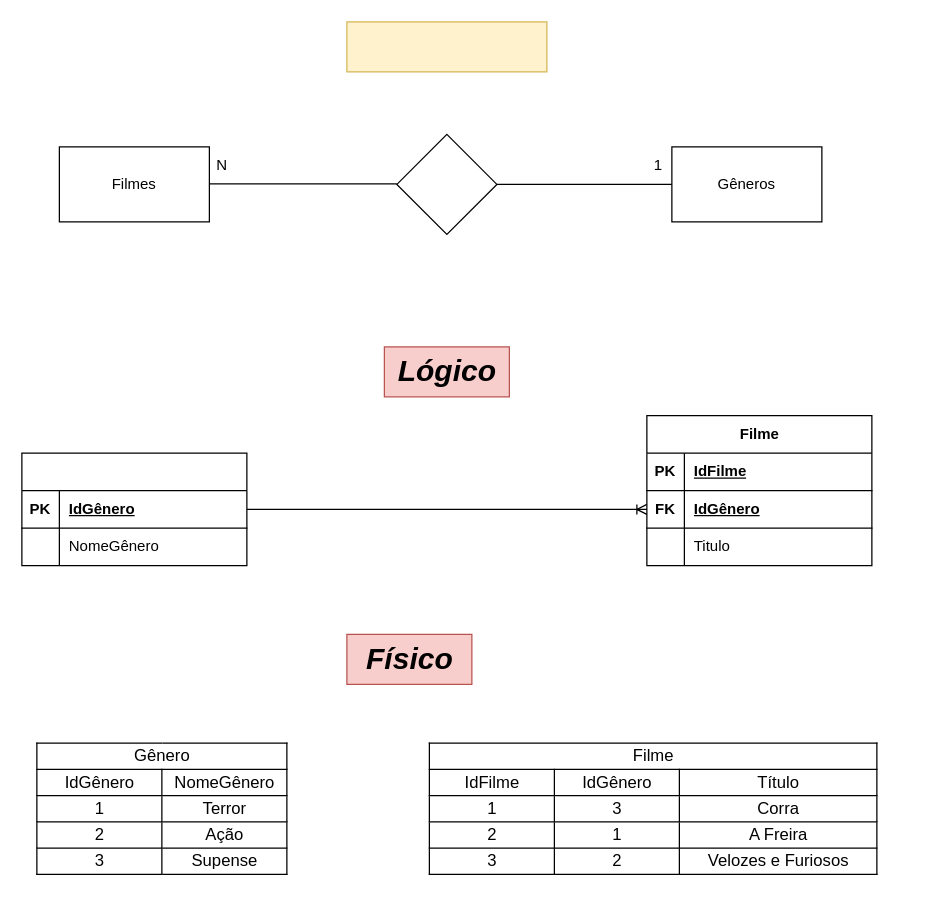
Image size: 936x919. Some labels were removed from this diagram. Each missing label, with the box of its shape:
Conceitual: (346, 21, 547, 72)
Genero: (21, 452, 247, 566)
possui: (396, 133, 497, 234)
